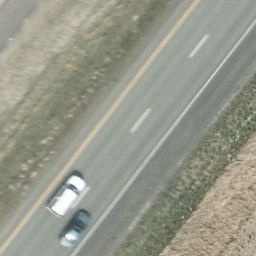car: (44, 174, 86, 220), (57, 209, 94, 250)
